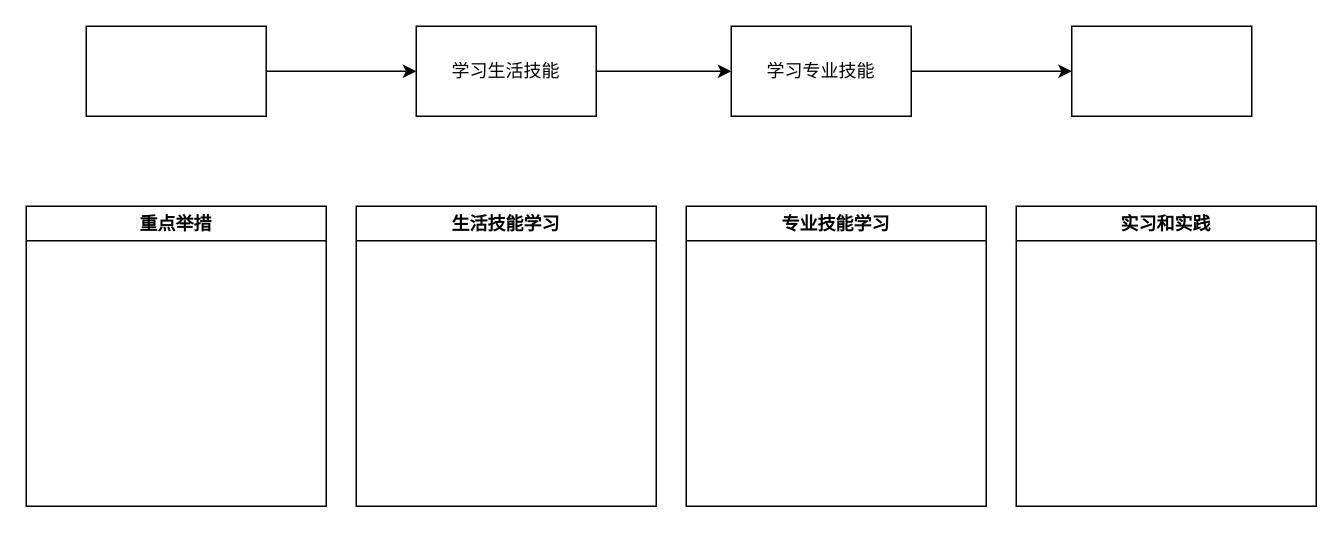
Image size: 1343x533. Some labels were removed from this diagram. The centre of each missing label's shape, as x and y in pixels:
"实践" goes at point 1161,70.
"改变生活习惯" goes at point 175,70.
